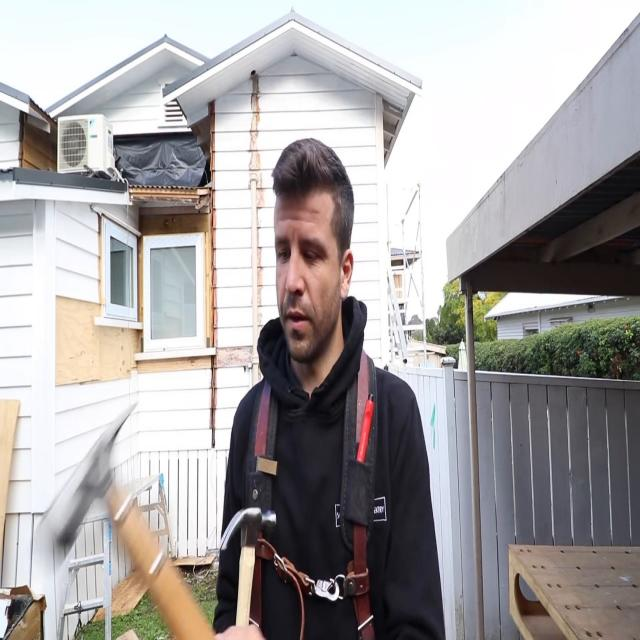hammer: (41, 400, 215, 640), (212, 504, 278, 640)
